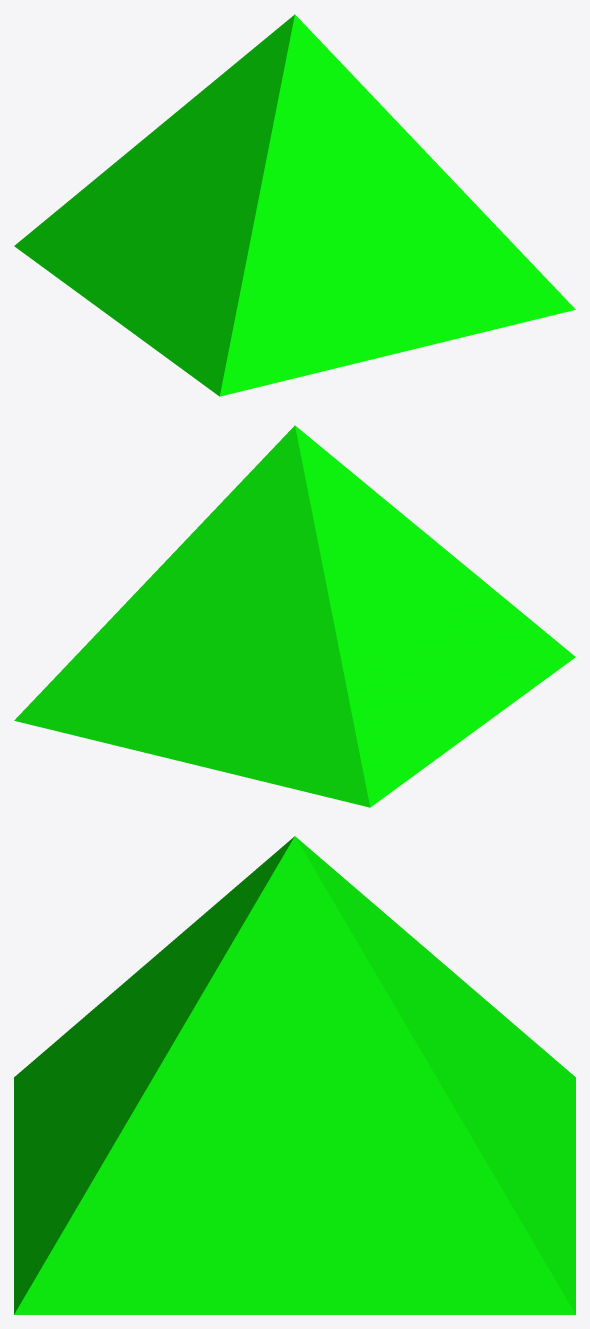
Rendered from regular_square_pyramid.fbx.
3 renders of one model, top to bottom at view 1: azimuth 30°, elevation 25°; view 2: azimuth 150°, elevation 25°; view 3: azimuth 270°, elevation 25°, orthographic. The views are drawn at different scales.
Parts seen in each view (by area): view 1: regular_square_pyramid; view 2: regular_square_pyramid; view 3: regular_square_pyramid.
Part boxes in pixels (x1=…): regular_square_pyramid: x1=14, y1=14, x2=575, y2=396; regular_square_pyramid: x1=14, y1=425, x2=575, y2=807; regular_square_pyramid: x1=14, y1=836, x2=575, y2=1314.
Bounding box in the file's own units: 126 × 89.44 × 126.
